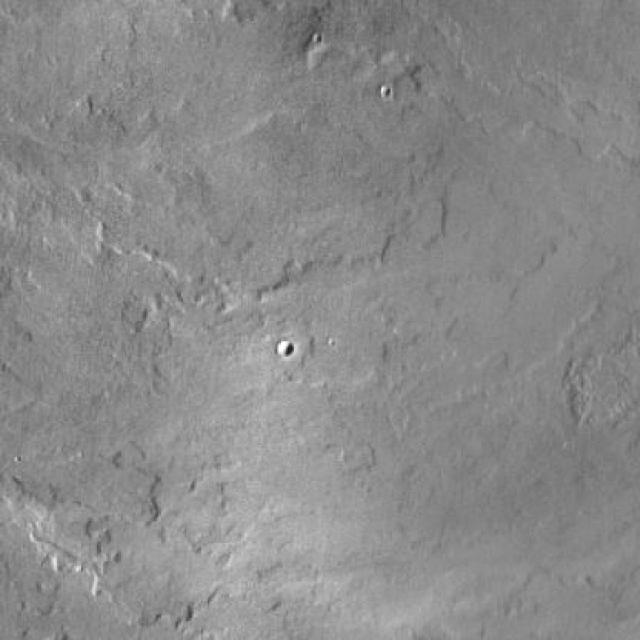crater: (278, 343, 293, 359)
